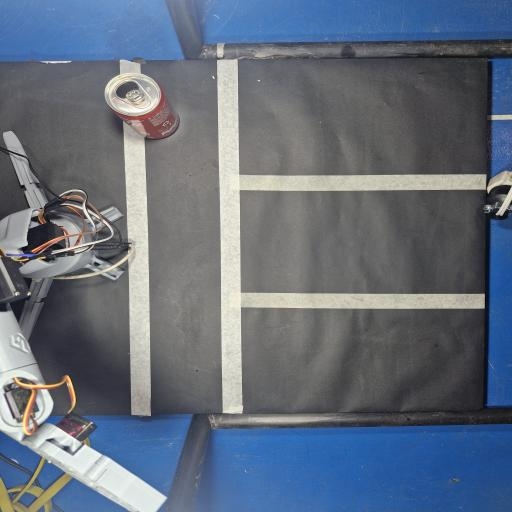lata: (105, 69, 179, 139)
